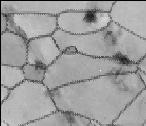good_void: (106, 66, 126, 91), (103, 26, 123, 44), (41, 86, 60, 100), (59, 108, 76, 123), (82, 8, 97, 23), (12, 24, 27, 39), (112, 50, 128, 64), (32, 58, 48, 72), (1, 11, 8, 18)
